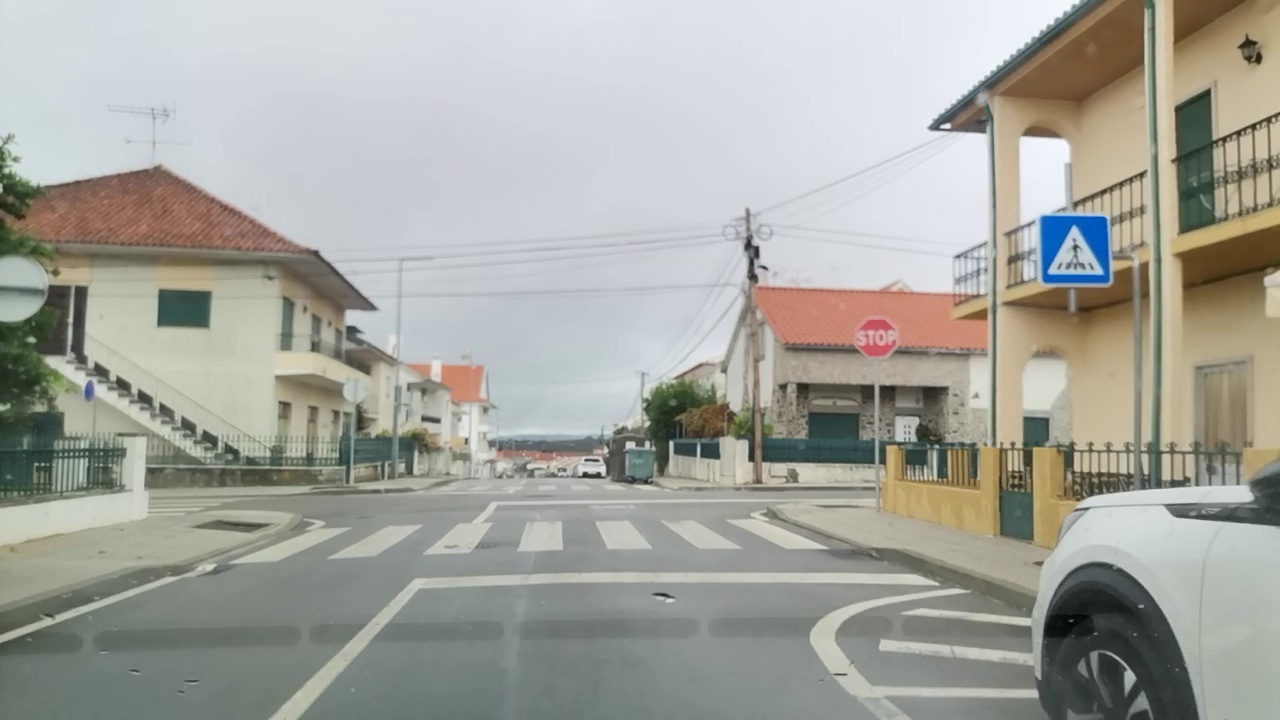Stairs: (234, 517, 829, 564)
